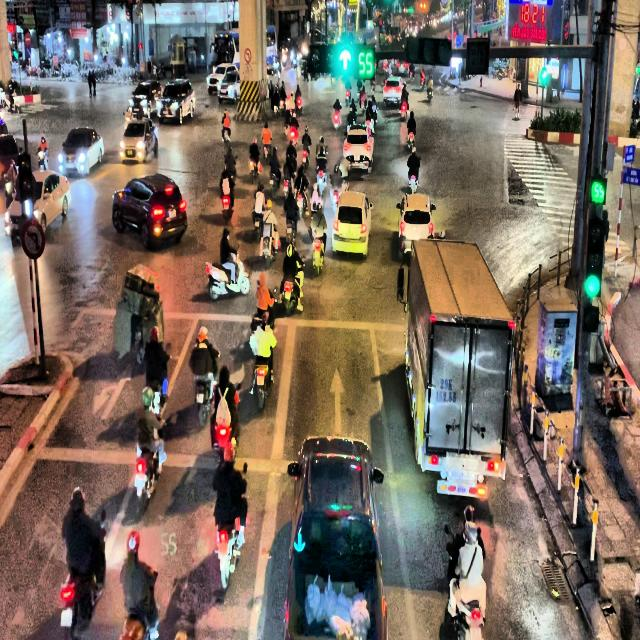lisence_plate: (443, 463, 481, 482), (345, 229, 355, 236), (169, 208, 177, 215), (356, 155, 362, 164)
